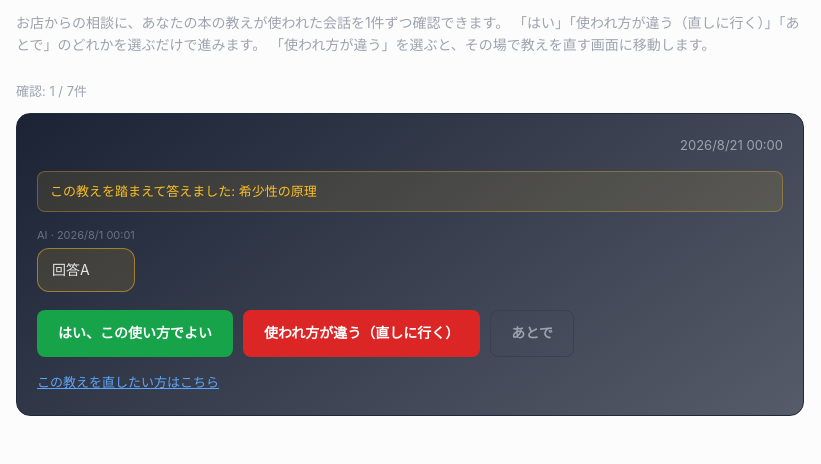
AuthorLoopPage › 「はい」を選ぶと次の未確認項目に進み、選んだ項目はlocalStorageに記憶される
Check: the text "この教えを踏まえて答えました: 希少性の原理" is shown, box x1=37 y1=171 x2=783 y2=212
Click the button "はい、この使い方でよい". click: (135, 333)
box: x1=37 y1=310 x2=233 y2=357
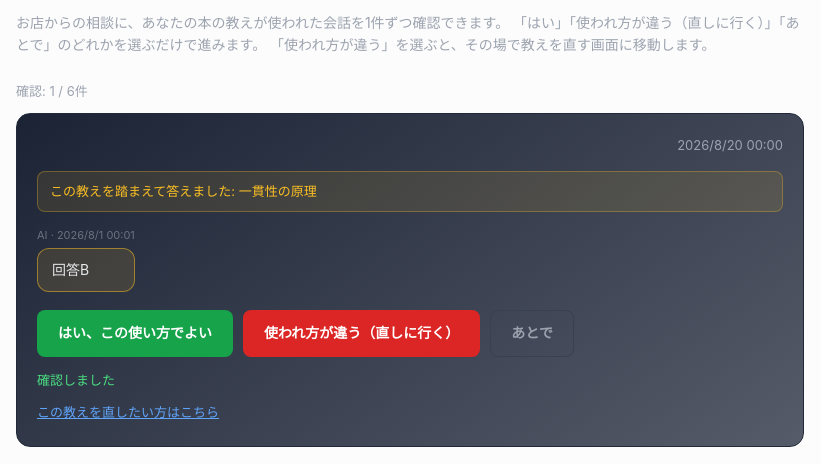
Check: the text "この教えを踏まえて答えました: 一貫性の原理" is shown, box x1=37 y1=171 x2=783 y2=212
